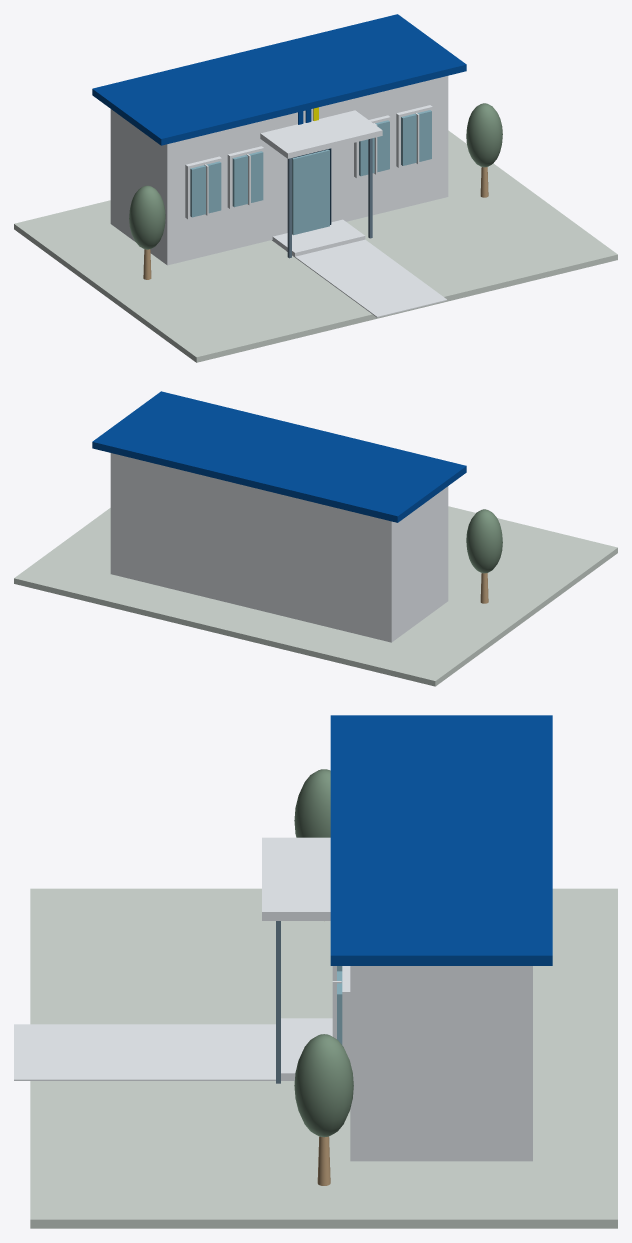
Rendered from campus.glb.
The picture shows the model from 3 angles, top to bottom: view 1: azimuth 30°, elevation 25°; view 2: azimuth 150°, elevation 25°; view 3: azimuth 270°, elevation 25°; orthographic projection. The views are drawn at different scales.
Parts seen in each view (by area): view 1: Site, Building, Roof, Walkway, Window (×4), Canopy (×2), EntryCanopy, DoorGlass, WindowFrame (×3), EntryStep, Column (×2); view 2: Building, Site, Roof, Canopy; view 3: Site, Roof, Building, Walkway, Canopy (×2), EntryCanopy, EntryStep, Column, WindowFrame.
Part boxes in pixels (left/top/right/bottom): Site: left=14, top=130, right=617, bottom=362; Building: left=110, top=76, right=448, bottom=265; Roof: left=92, top=14, right=466, bottom=145; Walkway: left=286, top=239, right=447, bottom=317; Window (×4): left=190, top=110, right=431, bottom=217; Canopy (×2): left=129, top=103, right=502, bottom=249; EntryCanopy: left=260, top=110, right=382, bottom=158; DoorGlass: left=292, top=149, right=329, bottom=235; WindowFrame (×3): left=185, top=105, right=432, bottom=219; EntryStep: left=272, top=219, right=365, bottom=256; Column (×2): left=287, top=138, right=372, bottom=258; Building: left=110, top=453, right=448, bottom=642; Site: left=14, top=506, right=617, bottom=686; Roof: left=92, top=391, right=466, bottom=522; Canopy: left=466, top=509, right=502, bottom=573; Site: left=30, top=888, right=617, bottom=1228; Roof: left=330, top=715, right=552, bottom=965; Building: left=350, top=966, right=532, bottom=1161; Walkway: left=14, top=1024, right=294, bottom=1080; Canopy (×2): left=294, top=769, right=353, bottom=1137; EntryCanopy: left=262, top=837, right=330, bottom=920; EntryStep: left=281, top=1018, right=332, bottom=1080; Column: left=276, top=921, right=280, bottom=1083; WindowFrame: left=342, top=966, right=350, bottom=1061.
Bounding box in the file's own units: 12 × 3.85 × 9.25.
